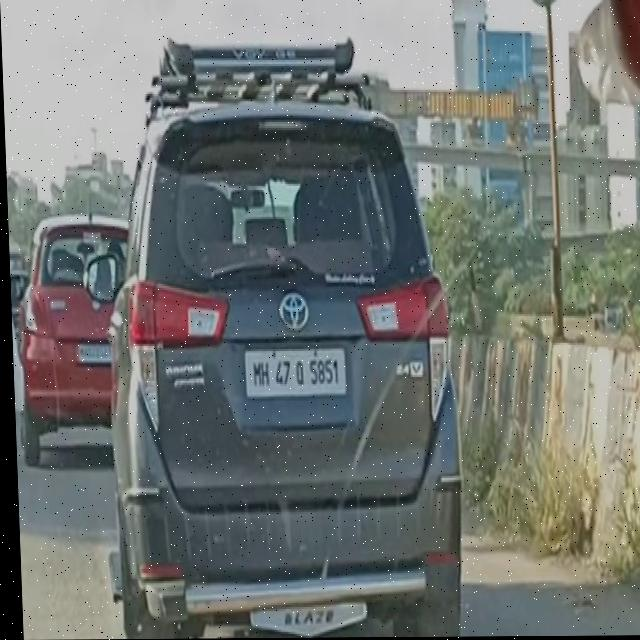plate: (241, 344, 346, 403)
